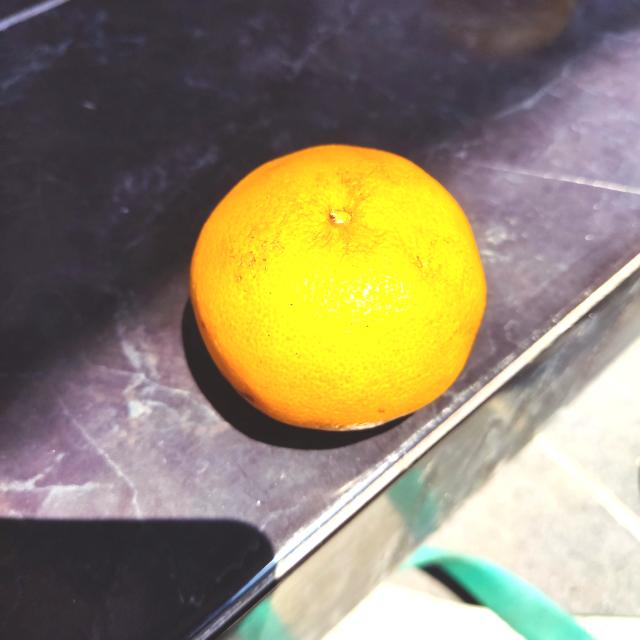orange: (186, 146, 490, 430)
